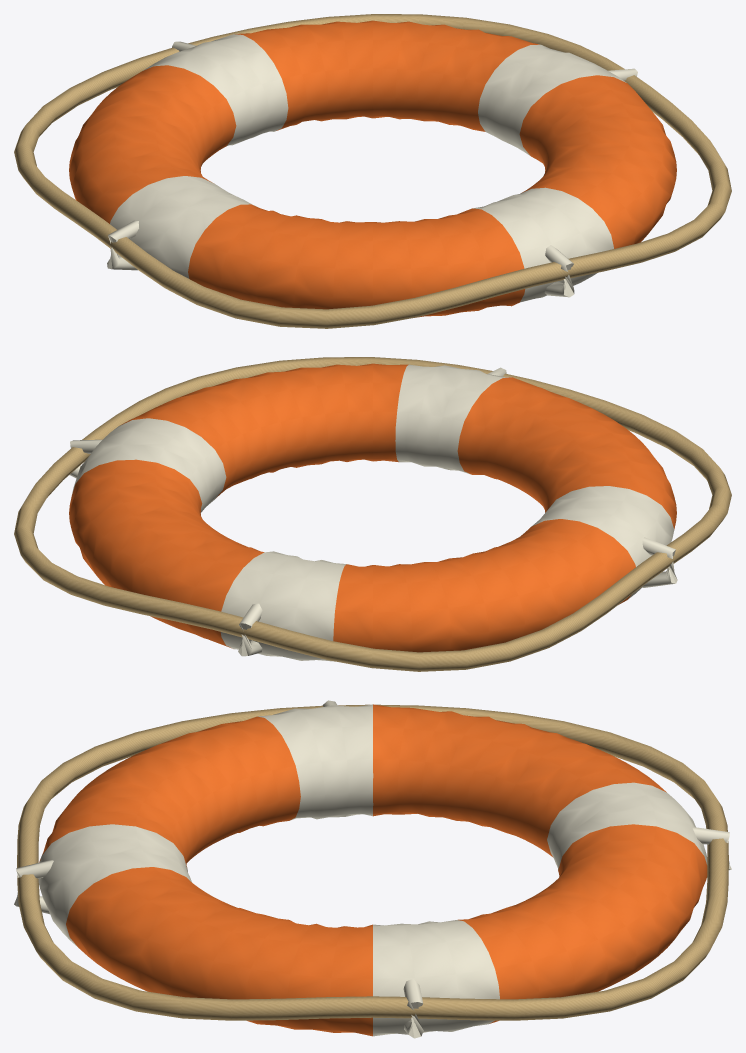
File: SM_OrangeBuoy.fbx
The picture shows the model from 3 angles, top to bottom: view 1: azimuth 30°, elevation 25°; view 2: azimuth 150°, elevation 25°; view 3: azimuth 270°, elevation 25°; orthographic projection. The views are drawn at different scales.
Visible parts, largest first — view 1: SM_OrangeBuoy; view 2: SM_OrangeBuoy; view 3: SM_OrangeBuoy.
Boxes of the visible parts, left/top/right/bottom form: SM_OrangeBuoy: left=14, top=14, right=731, bottom=328; SM_OrangeBuoy: left=14, top=357, right=731, bottom=671; SM_OrangeBuoy: left=14, top=700, right=731, bottom=1038.
Bounding box in the file's own units: 56.8 × 56.8 × 8.05.
1 material, 1 textured.
